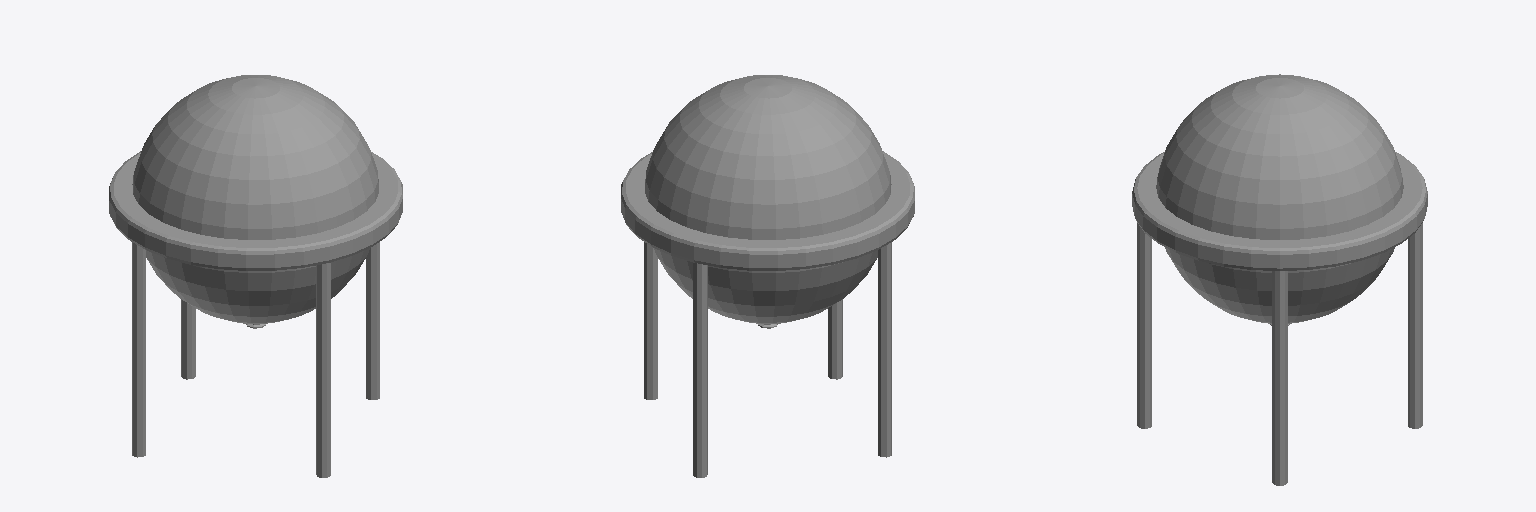
The model's file is 5m_sphere_stilt_tank.obj.
3 views of the same model, side by side, from view 1: azimuth 30°, elevation 25°; view 2: azimuth 150°, elevation 25°; view 3: azimuth 270°, elevation 25° (orthographic).
Visible parts, largest first — view 1: Cylinder_Cylinder.002; view 2: Cylinder_Cylinder.002; view 3: Cylinder_Cylinder.002.
Boxes of the visible parts, x1=… form: Cylinder_Cylinder.002: x1=109, y1=75, x2=402, y2=477; Cylinder_Cylinder.002: x1=621, y1=75, x2=914, y2=477; Cylinder_Cylinder.002: x1=1132, y1=74, x2=1427, y2=485.
Bounding box in the file's own units: 5.91 × 7.5 × 5.91.